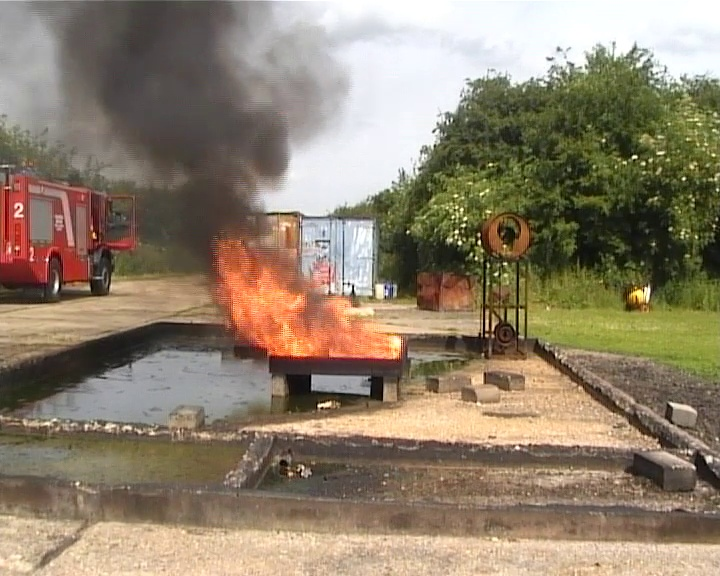fire: (208, 239, 398, 358)
